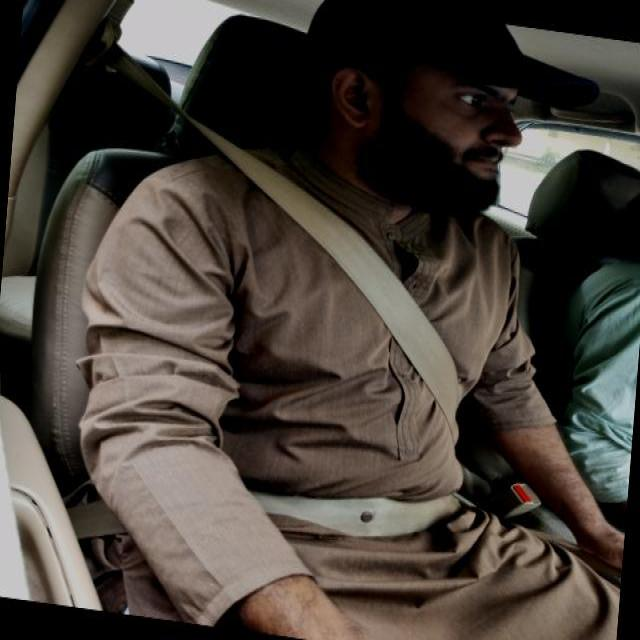seatbelt: (86, 51, 528, 568)
